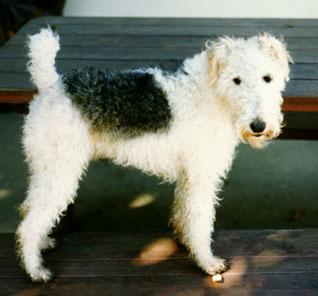wire-haired_fox_terrier: (14, 25, 292, 283)
